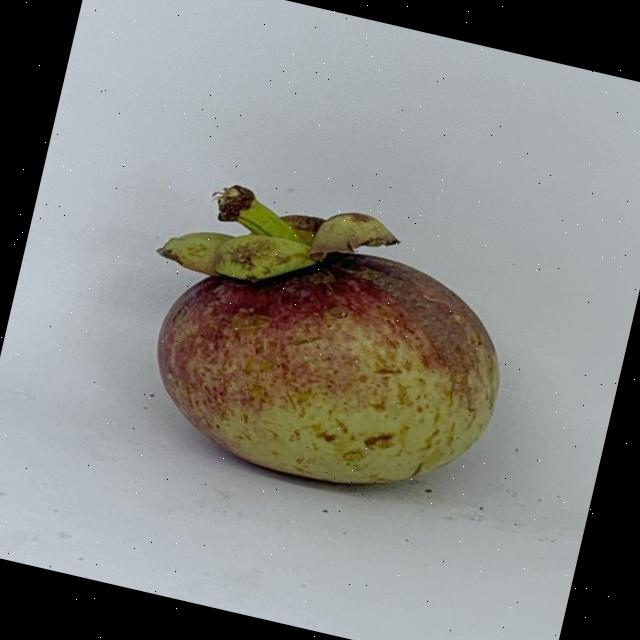mangosteen: (129, 168, 541, 520)
